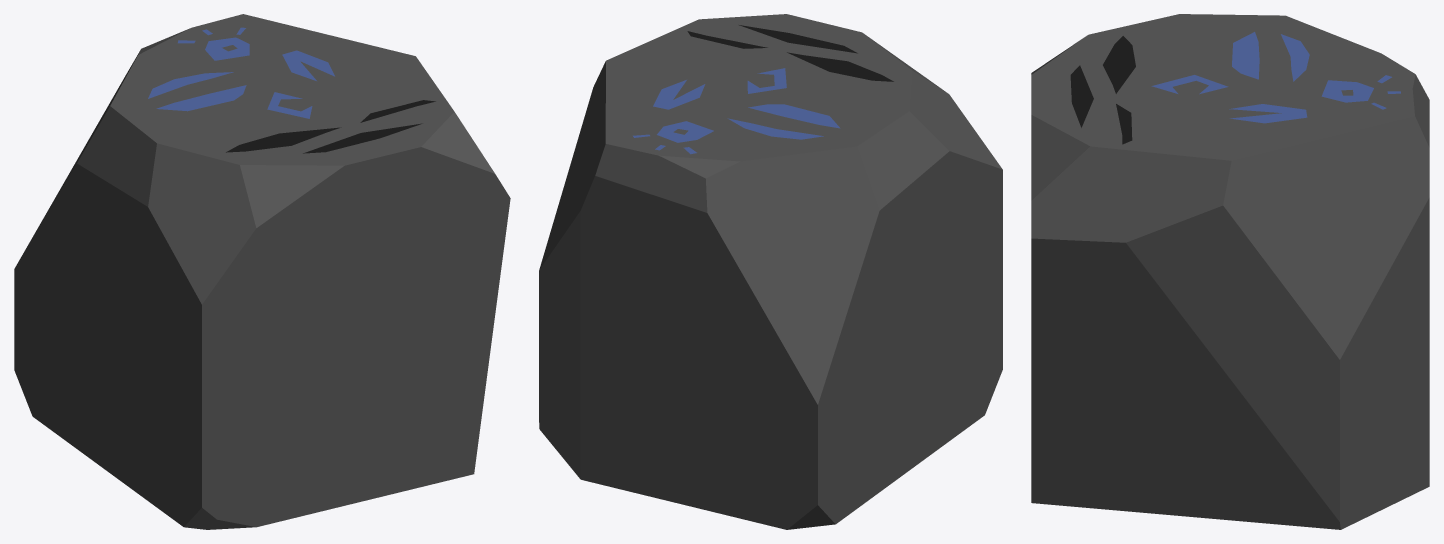
Rendered from Ruins_13.fbx.
3 renders of one model, left to right at view 1: azimuth 30°, elevation 25°; view 2: azimuth 150°, elevation 25°; view 3: azimuth 270°, elevation 25°, orthographic. The views are drawn at different scales.
Parts seen in each view (by area): view 1: Ruins_13; view 2: Ruins_13; view 3: Ruins_13.
Part boxes in pixels (box(x1,y1,x2,y2)): Ruins_13: box(14, 14, 510, 529); Ruins_13: box(539, 14, 1002, 529); Ruins_13: box(1031, 14, 1429, 529).
Size of the model in its own units: 87.52 by 87.52 by 87.52.
